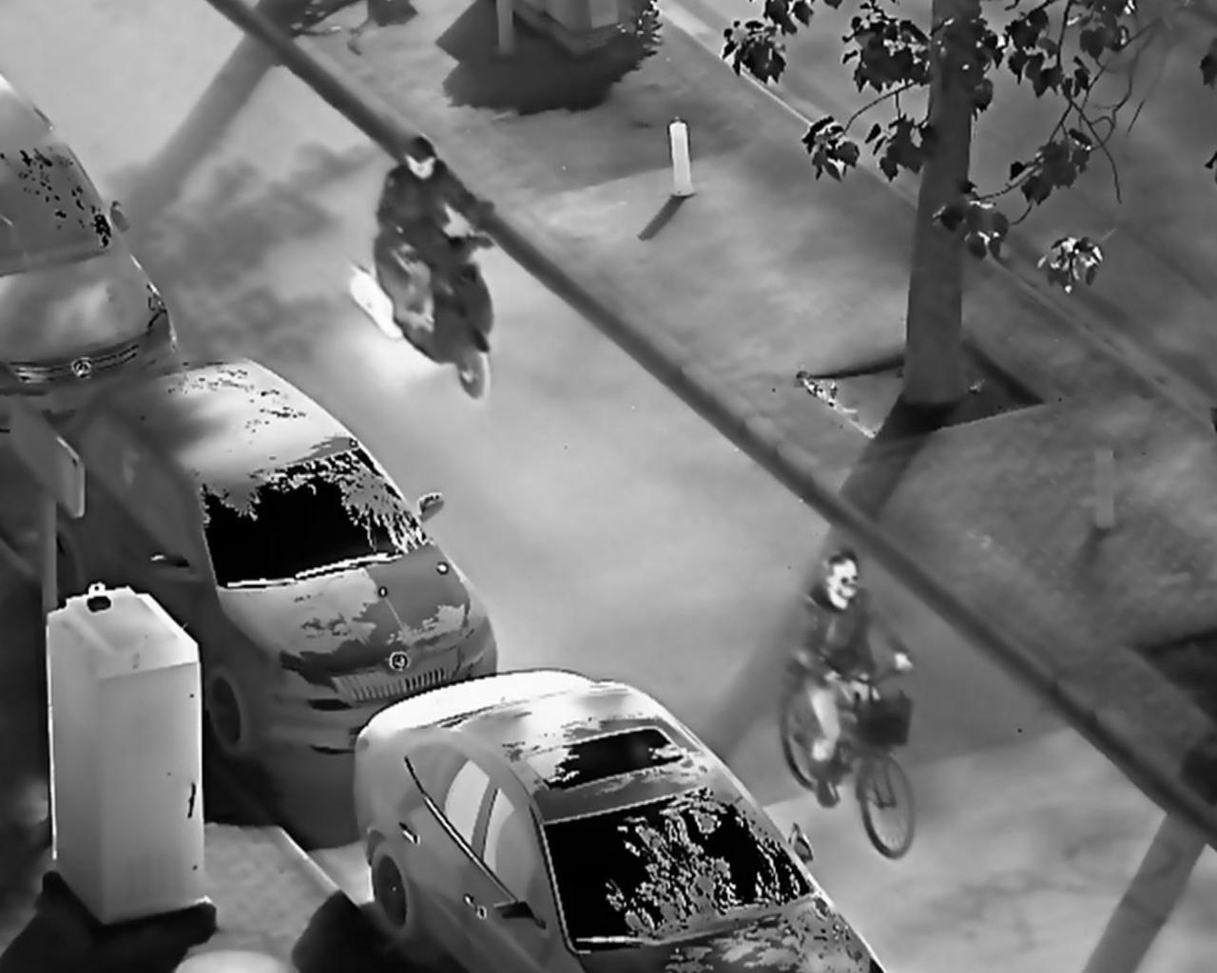person: (791, 546, 918, 814), (373, 133, 493, 336)
